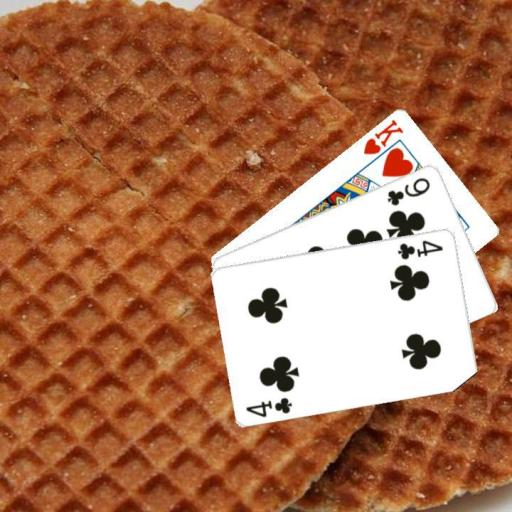4C: (243, 393, 295, 419), (395, 236, 445, 261)
9C: (383, 173, 432, 207)
KH: (360, 115, 405, 156)
